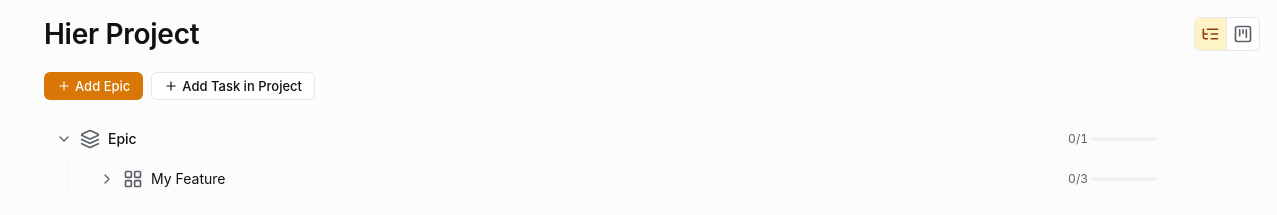
TreeView — parent completion blocking for Feature › right-clicking a Feature shows a context menu with "Mark complete"
The width and height of the screenshot is (1277, 215).
Right-click the button "My Feature 0/3" at (1124, 179), box [44, 160, 1260, 198]
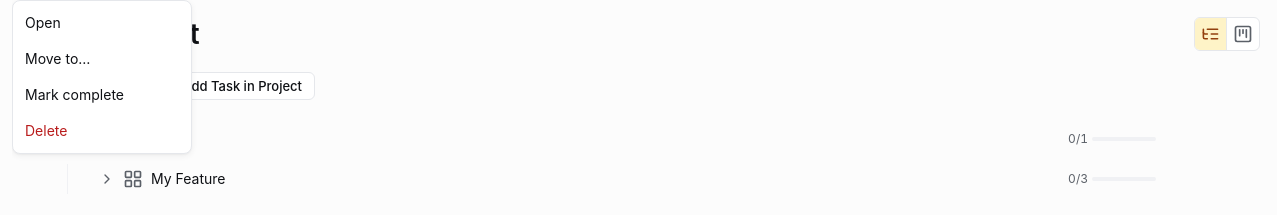
Result: the menu item "Mark complete" is shown at [13, 77, 191, 113]
